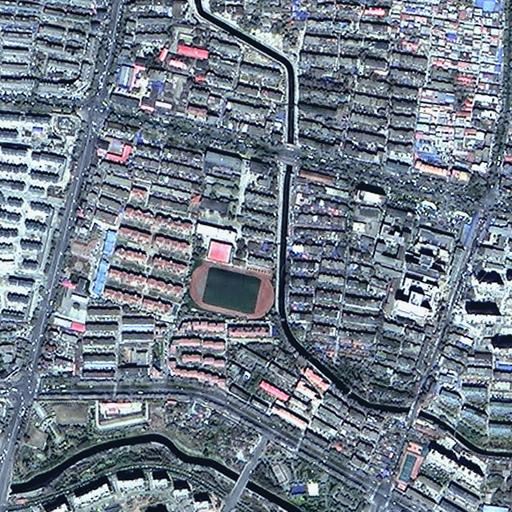school: (186, 147, 279, 318)
